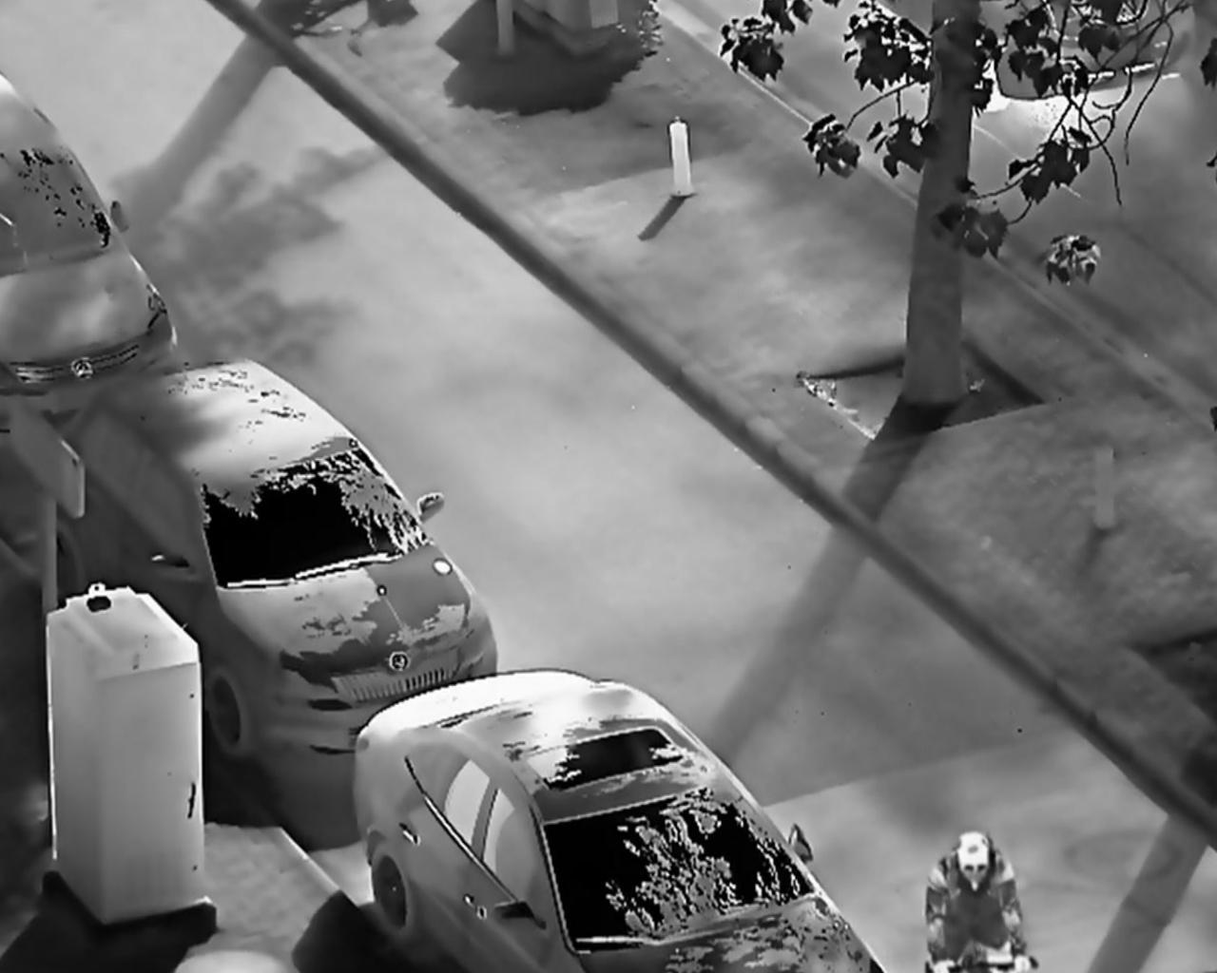person: (919, 827, 1034, 973)
